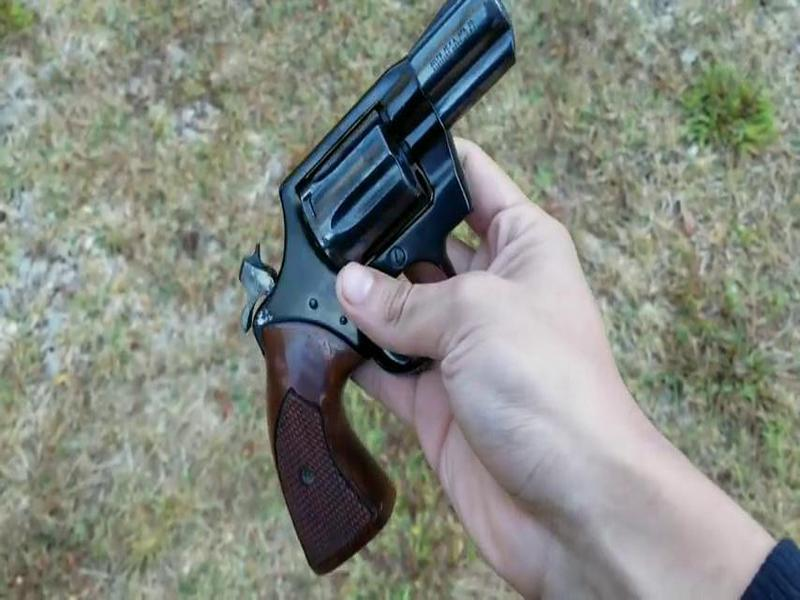Revolver: (260, 1, 554, 575)
